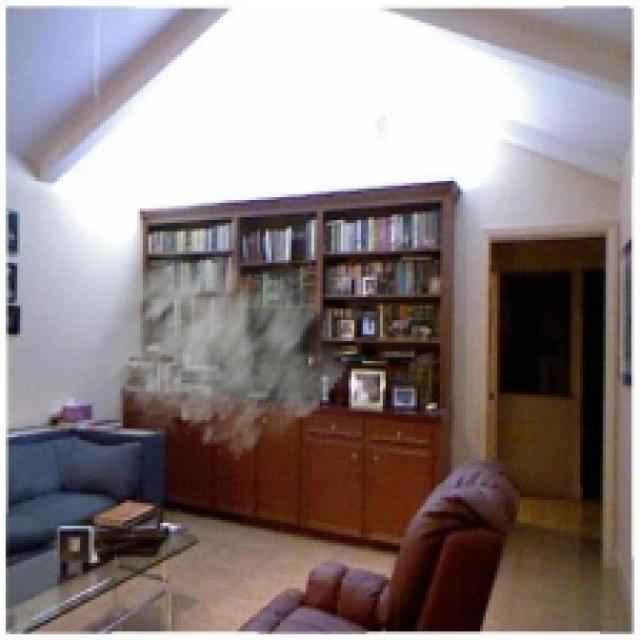Smoke: (86, 214, 360, 463)
